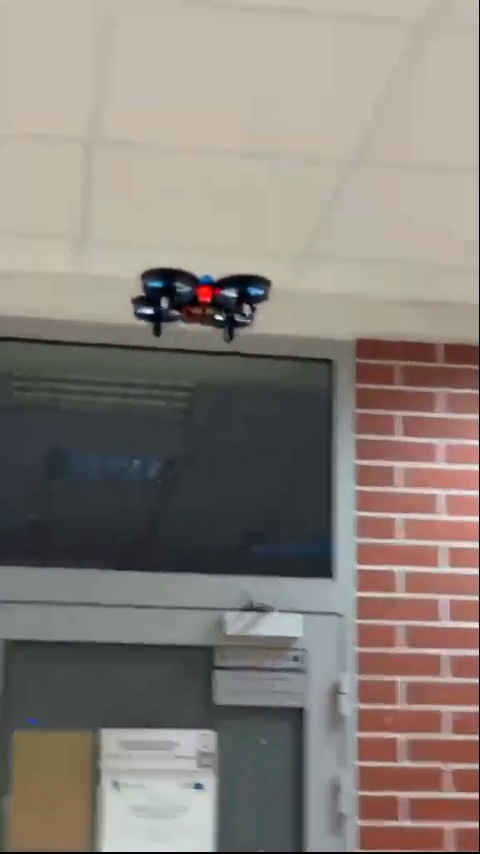drone: (129, 270, 271, 348)
